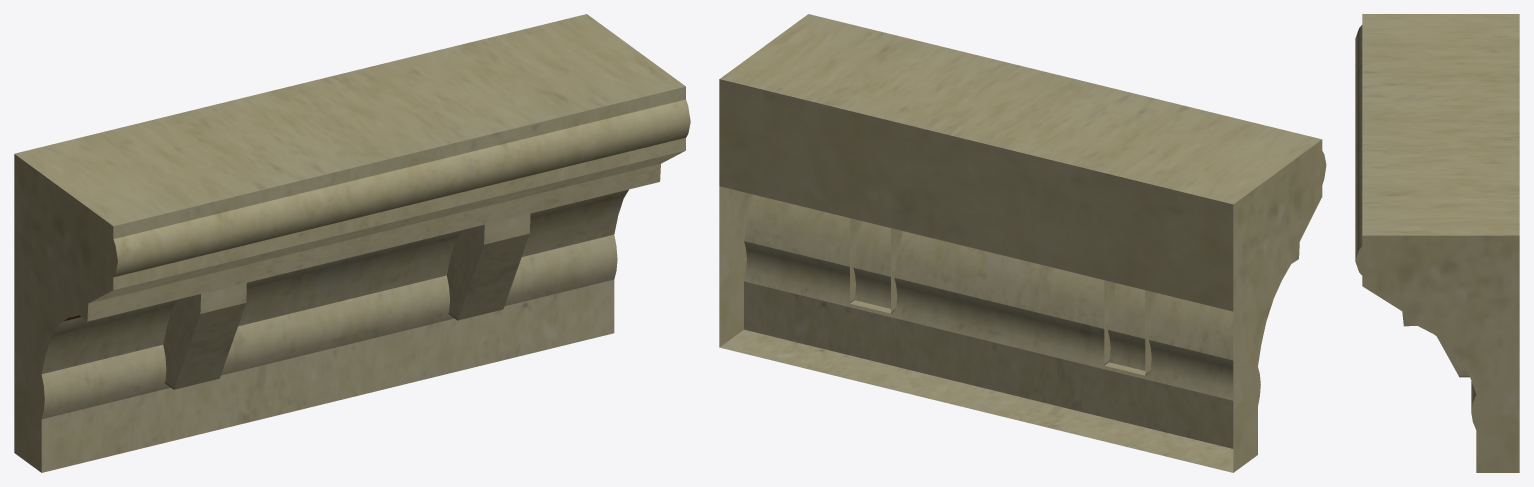
The model's file is cornice_trim_center.glb.
The picture shows the model from 3 angles, left to right: view 1: azimuth 30°, elevation 25°; view 2: azimuth 150°, elevation 25°; view 3: azimuth 270°, elevation 25°; orthographic projection. The views are drawn at different scales.
Visible parts, largest first — view 1: Cornice_Trim_Center; view 2: Cornice_Trim_Center; view 3: Cornice_Trim_Center.
Boxes of the visible parts, <box> form: Cornice_Trim_Center: <box>14,14,690,472</box>; Cornice_Trim_Center: <box>719,14,1326,472</box>; Cornice_Trim_Center: <box>1355,14,1519,472</box>.
Bounding box in the file's own units: 2 × 0.9984 × 0.6278.
1 material, 1 textured.
